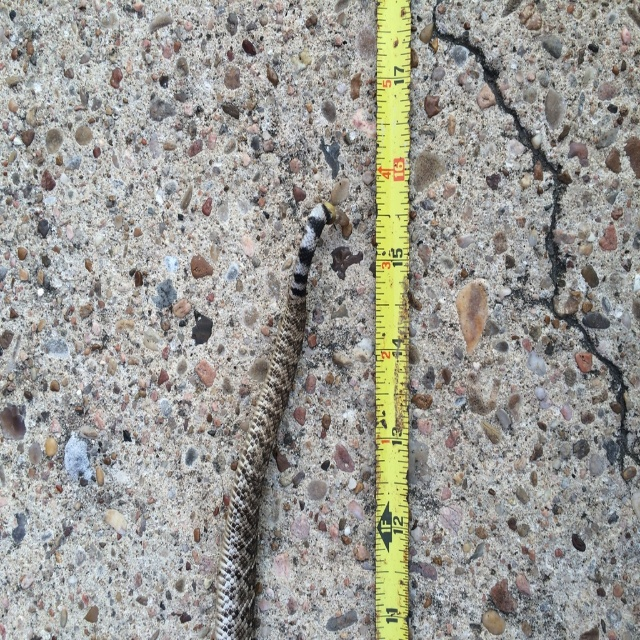Snake: (214, 201, 349, 639)
